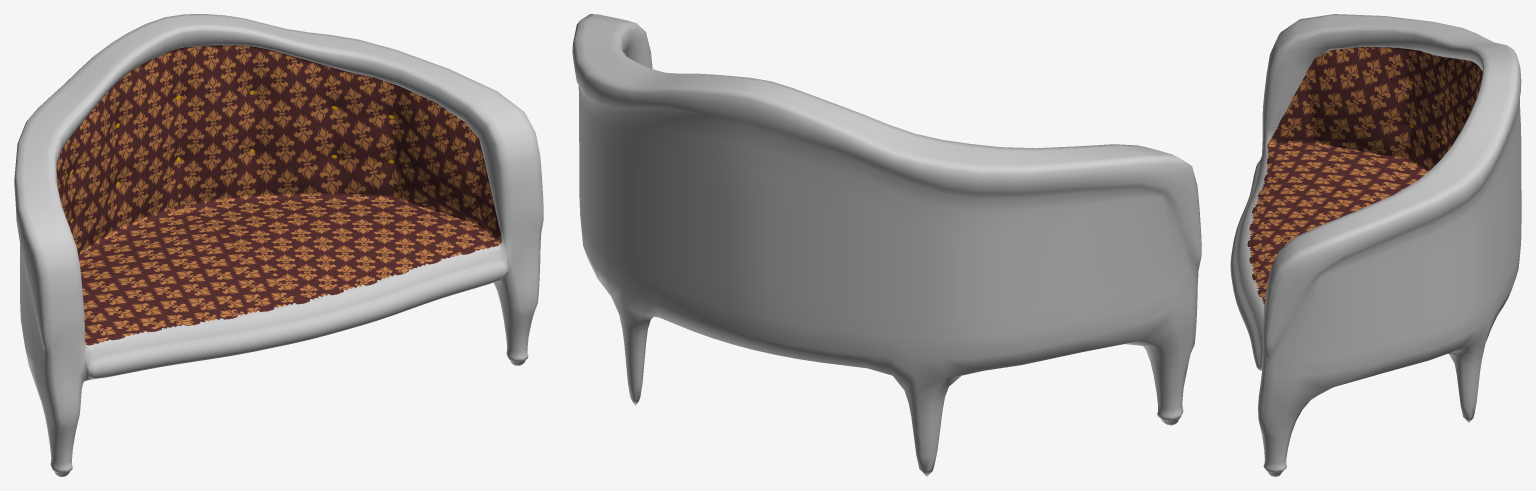
The model's file is bench.fbx.
The picture shows the model from 3 angles, left to right: view 1: azimuth 30°, elevation 25°; view 2: azimuth 150°, elevation 25°; view 3: azimuth 270°, elevation 25°; orthographic projection. The views are drawn at different scales.
Parts seen in each view (by area): view 1: bench; view 2: bench; view 3: bench.
Boxes of the visible parts, x1,y1,x2,y2 form: bench: (14, 14, 543, 476); bench: (572, 14, 1201, 476); bench: (1230, 14, 1521, 476).
Bounding box in the file's own units: 143 × 85.26 × 74.13.
